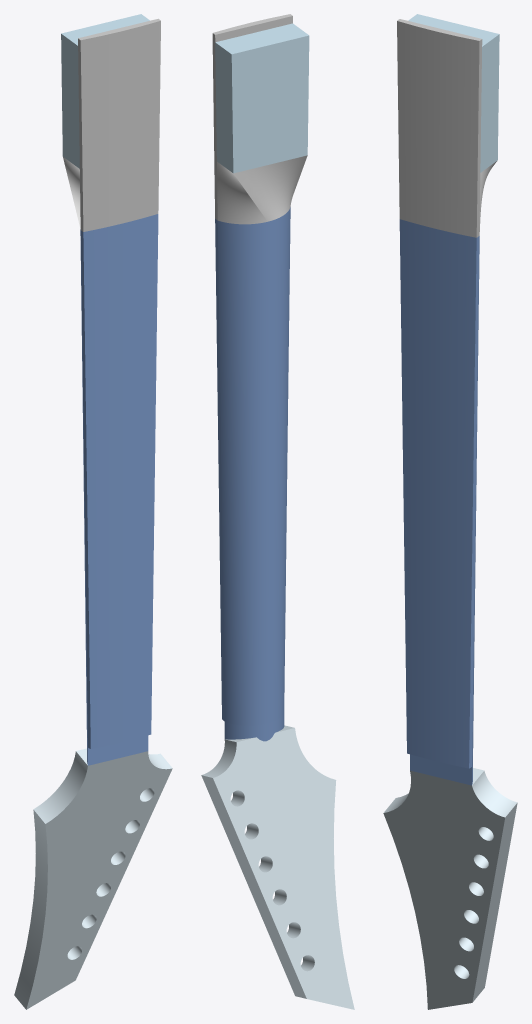
The model's file is NeckModel.gltf.
The picture shows the model from 3 angles, left to right: view 1: azimuth 30°, elevation 25°; view 2: azimuth 210°, elevation 25°; view 3: azimuth 330°, elevation 25°; orthographic projection. The views are drawn at different scales.
Parts seen in each view (by area): view 1: FingerBoard2, Head, FingerBoard1, Neck1, Neck2, Part 5; view 2: Neck2, Head, Neck1, Part 5, FingerBoard2, FingerBoard1; view 3: FingerBoard2, Head, FingerBoard1, Neck1, Neck2.
Part boxes in pixels (x1=…): FingerBoard2: x1=80, y1=214, x2=158, y2=749; Head: x1=14, y1=748, x2=172, y2=1009; FingerBoard1: x1=78, y1=18, x2=160, y2=231; Neck1: x1=61, y1=14, x2=149, y2=168; Neck2: x1=80, y1=229, x2=148, y2=765; Part 5: x1=63, y1=157, x2=80, y2=228; Neck2: x1=217, y1=207, x2=290, y2=741; Head: x1=201, y1=725, x2=354, y2=1009; Neck1: x1=215, y1=23, x2=309, y2=173; Part 5: x1=217, y1=155, x2=307, y2=224; FingerBoard2: x1=215, y1=219, x2=224, y2=721; FingerBoard1: x1=212, y1=14, x2=292, y2=220; FingerBoard2: x1=399, y1=219, x2=479, y2=768; Head: x1=383, y1=768, x2=517, y2=1009; FingerBoard1: x1=397, y1=19, x2=482, y2=237; Neck1: x1=408, y1=14, x2=499, y2=172; Neck2: x1=410, y1=236, x2=479, y2=785.
Bounding box in the file's own units: 0.0851 × 0.6589 × 0.0664.
